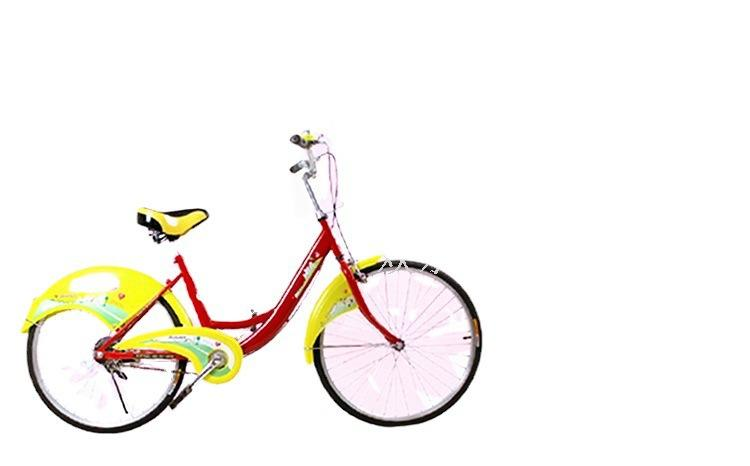单车: (20, 122, 490, 442)
